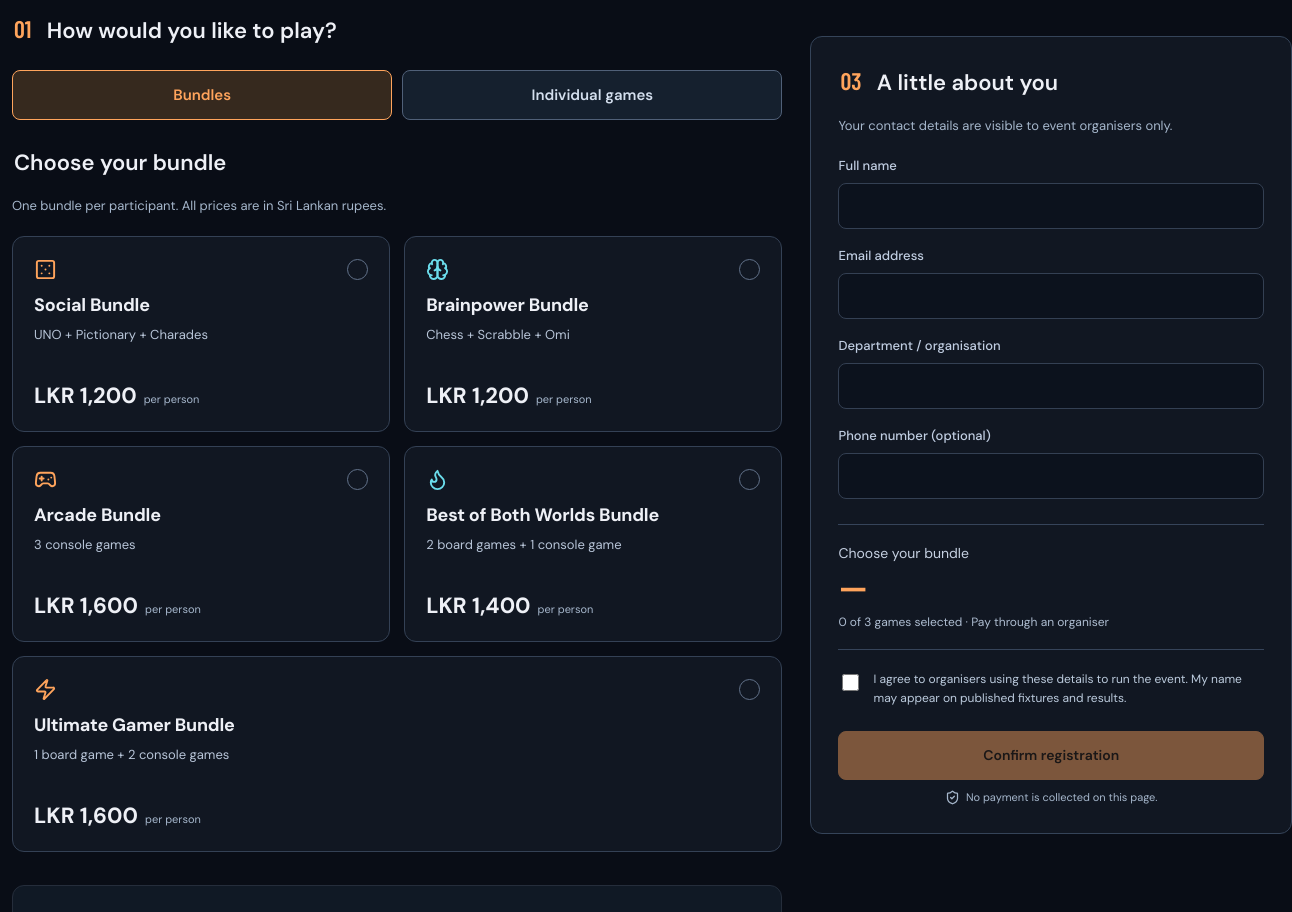
Test: preserves contact details but resets bundle and individual choices on mode switch
Click the radio button labelled "Social Bundle": (201, 334) [12,236,390,432]
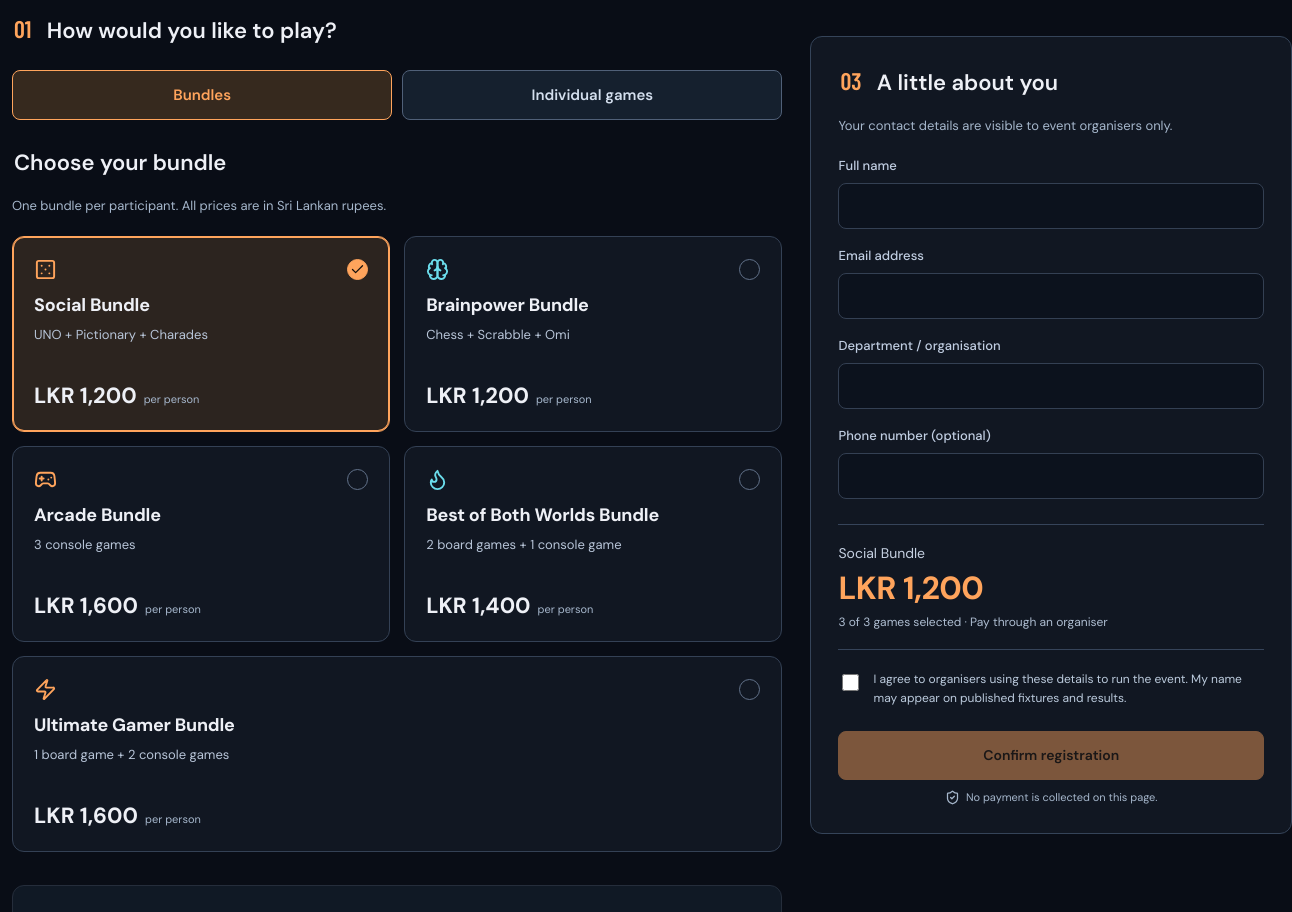
In the field labelled "Full name": (1051, 206) [838,183,1264,229], type "Alex Test"
In the field labelled "Email address": (1051, 296) [838,273,1264,319], type "alex@example.test"
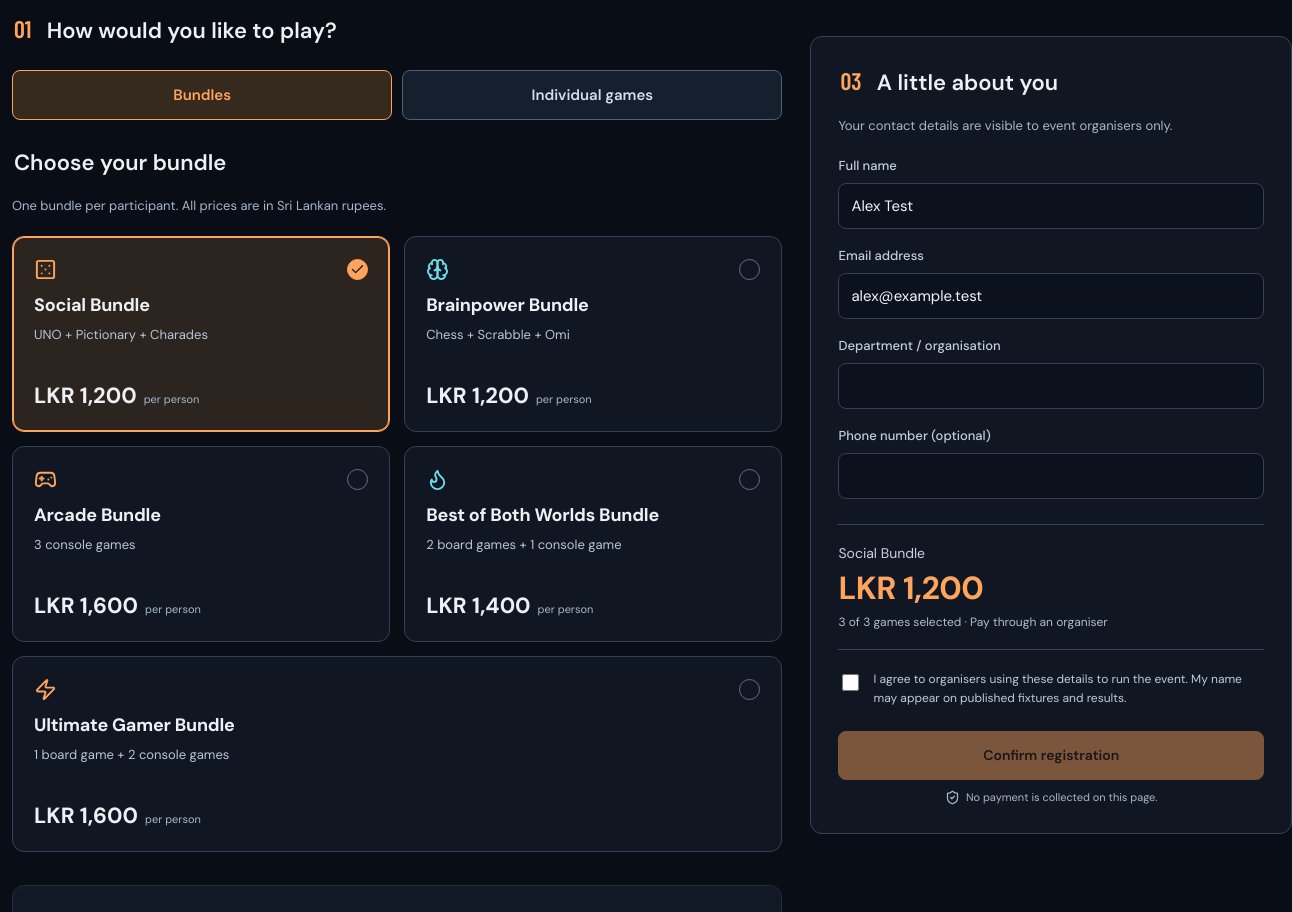
In the field labelled "Department / organisation": (1051, 386) [838,363,1264,409], type "Finance"
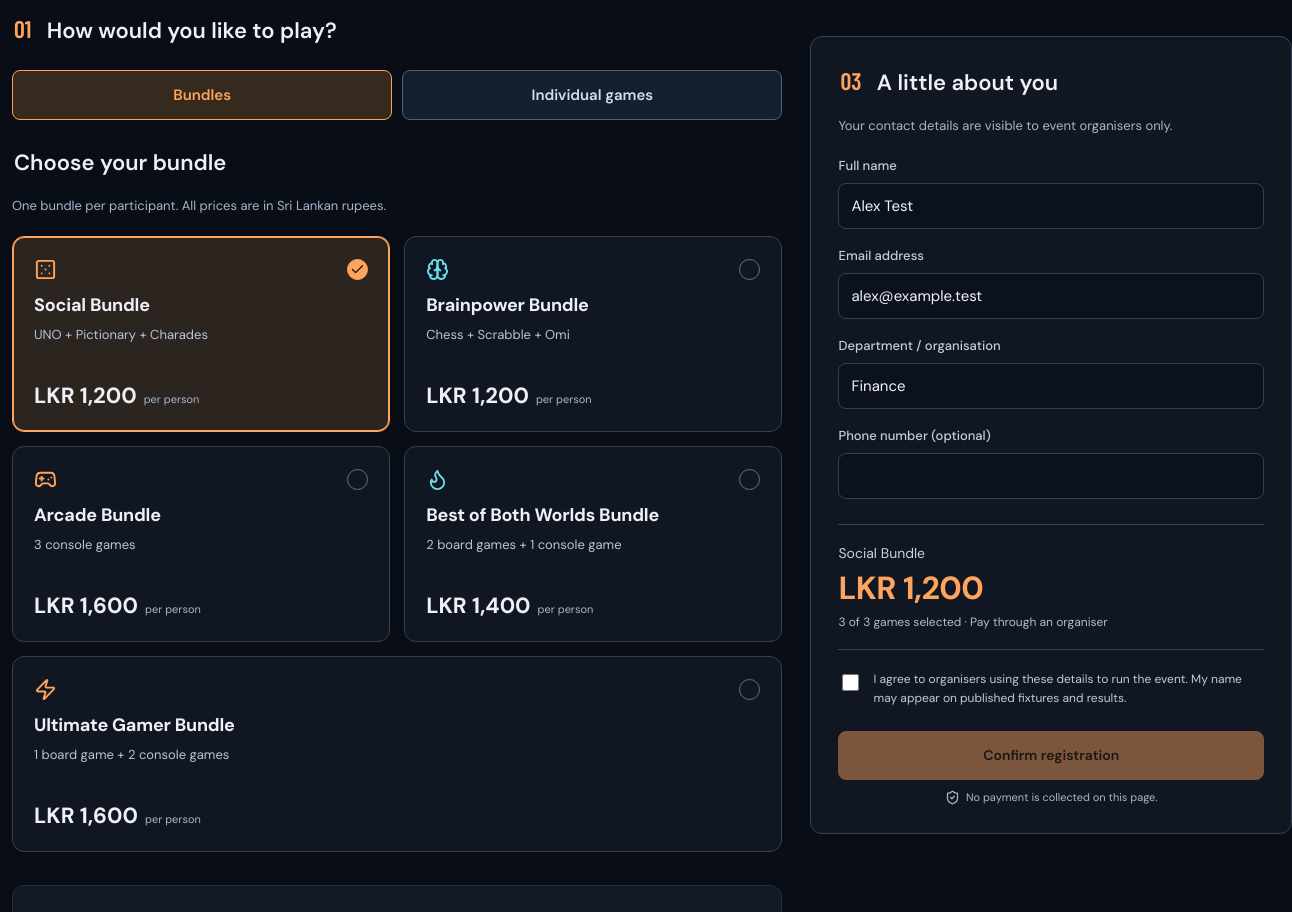
Click the checkbox labelled "I agree": (851, 682) [842,674,860,691]
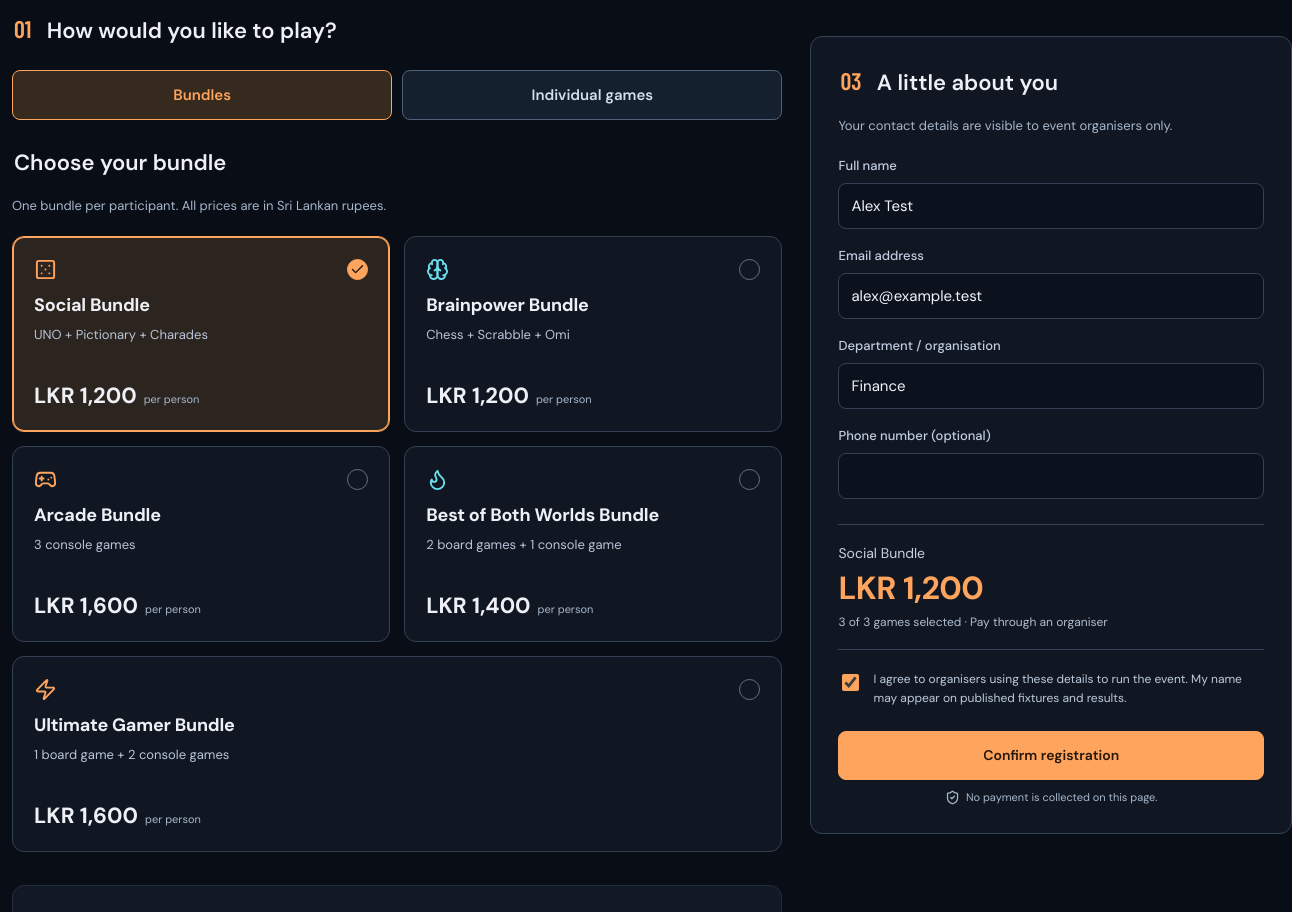
Click the button "Individual games": (592, 95) [402,70,782,120]
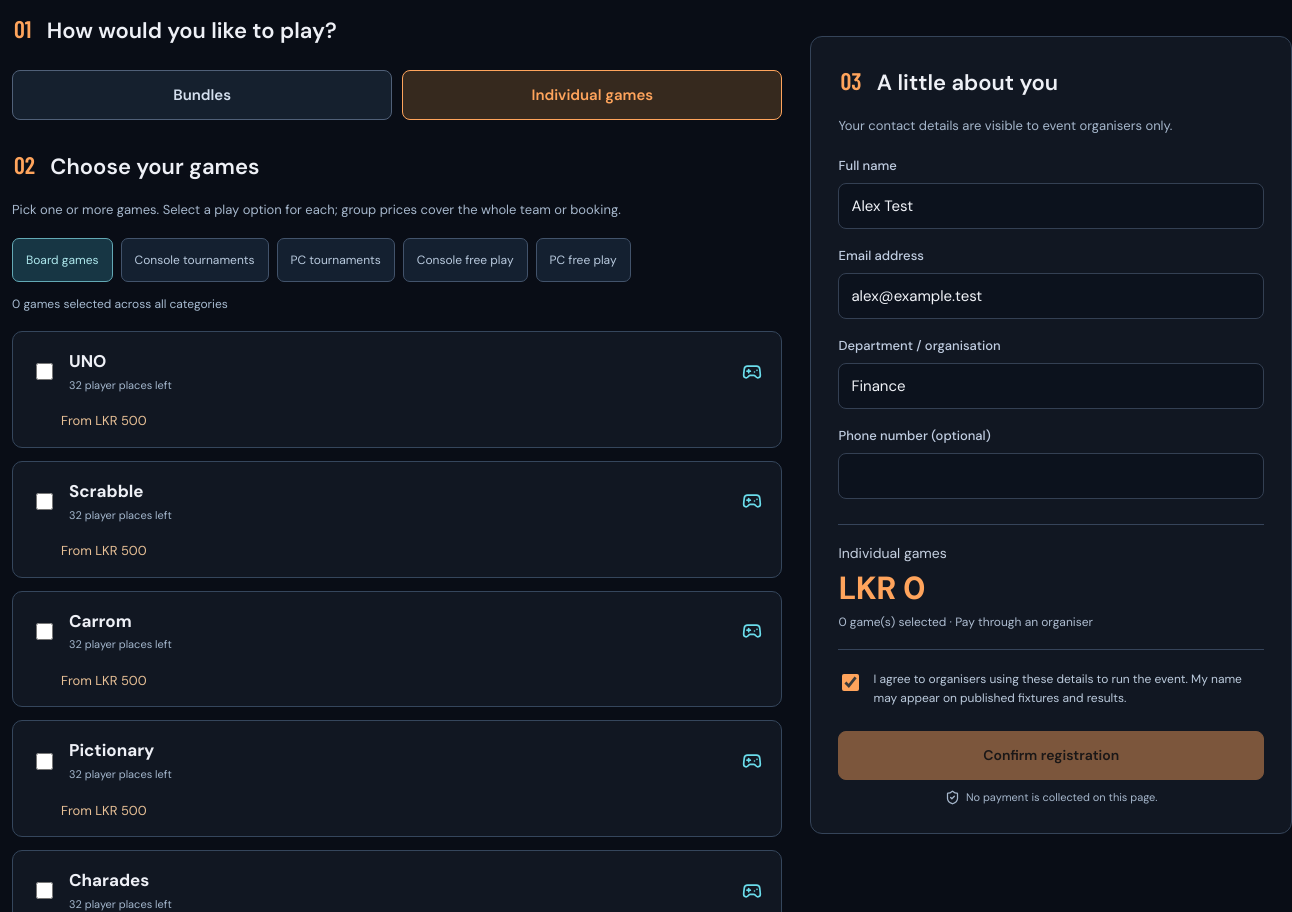
Now the button "Confirm registration" is disabled, box [838,731,1264,780]
Click the button "Bundles": (202, 95) [12,70,392,120]
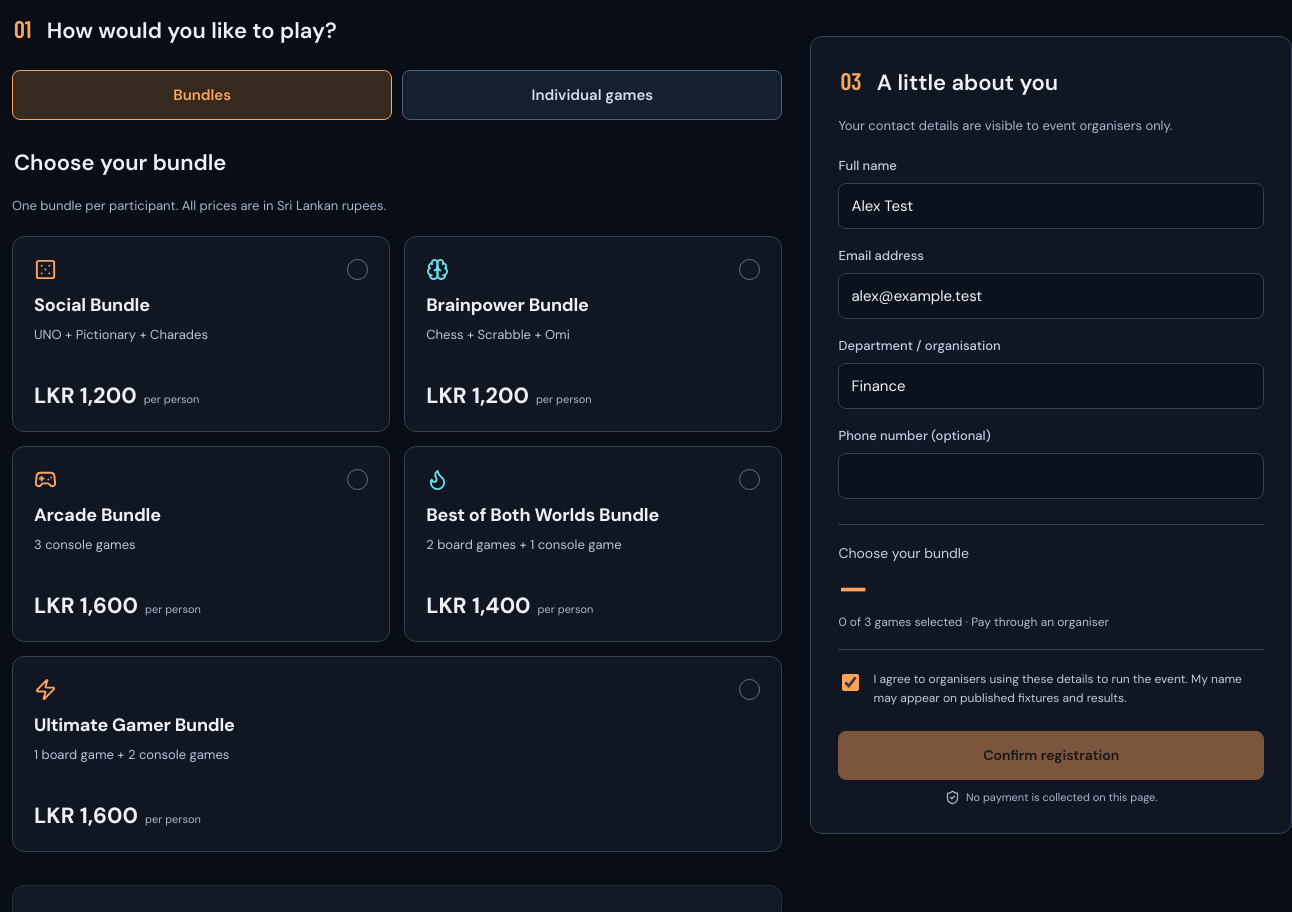
Now the radio button labelled "Social Bundle" is not checked, box [12,236,390,432]
